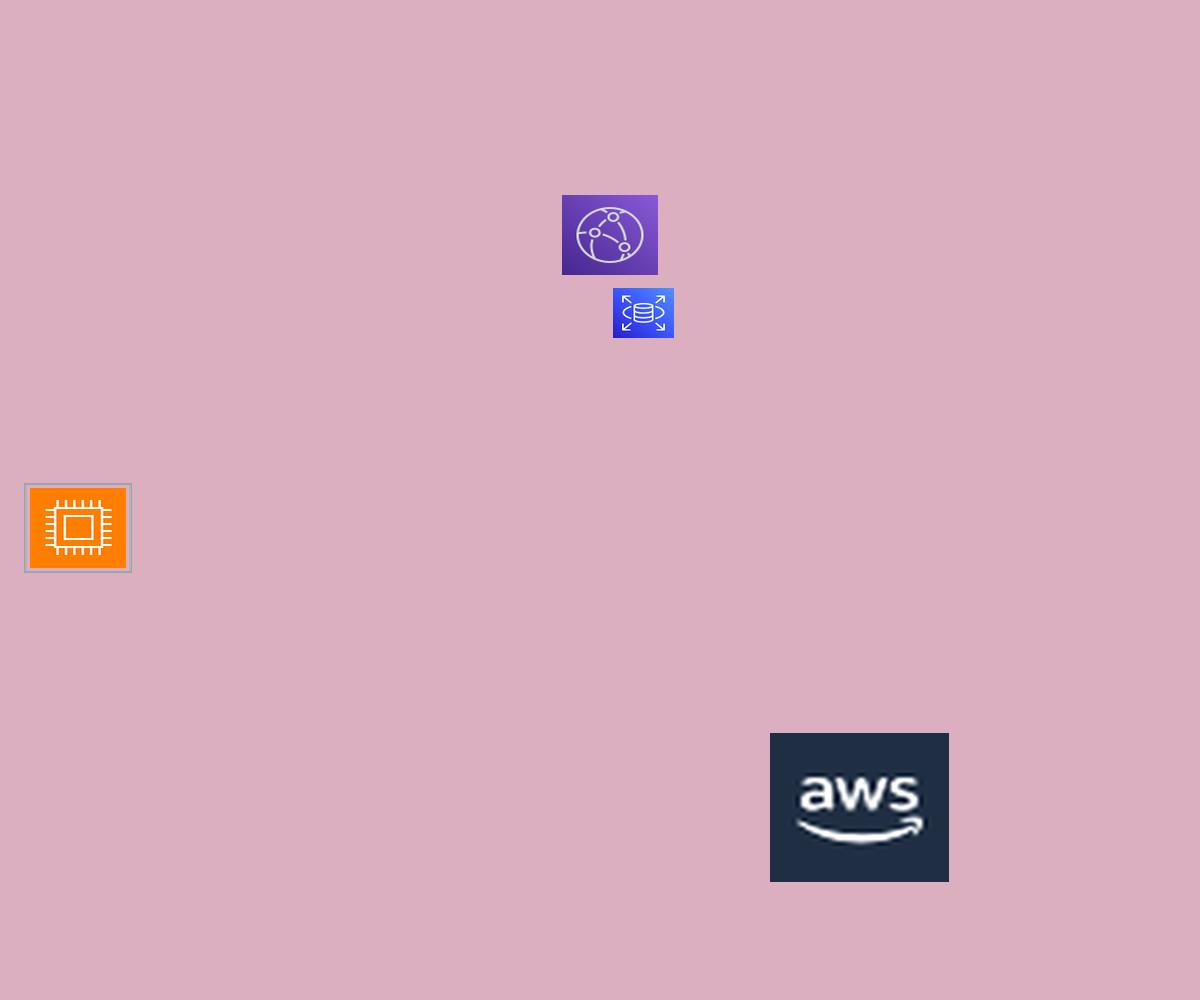AWS-Category_Compute: (24, 483, 132, 573)
AWS-Cloud-logo: (770, 733, 949, 882)
AWS-CloudFront: (562, 195, 658, 275)
AWS-RDS: (613, 288, 674, 338)
